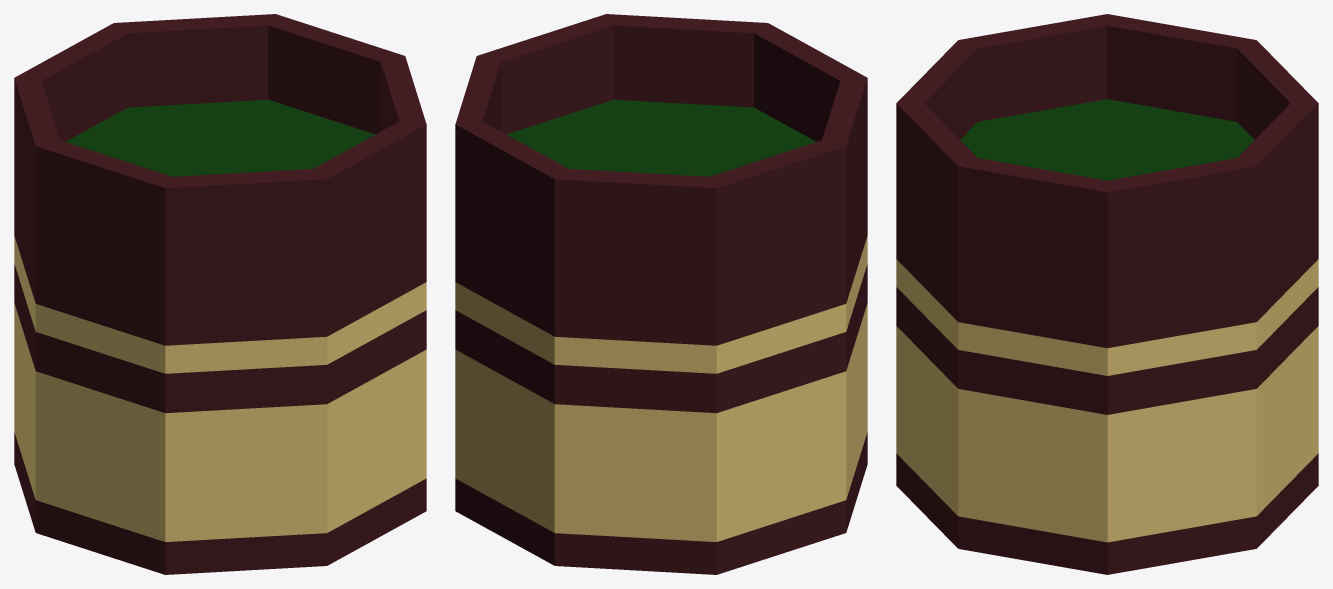
The model's file is m_coloniusLory_CupOftea.fbx.
3 views of the same model, side by side, from view 1: azimuth 30°, elevation 25°; view 2: azimuth 150°, elevation 25°; view 3: azimuth 270°, elevation 25° (orthographic).
Visible parts, largest first — view 1: m_coloniusLory_CupOftea; view 2: m_coloniusLory_CupOftea; view 3: m_coloniusLory_CupOftea.
Part boxes in pixels (bbox=[...]): m_coloniusLory_CupOftea: bbox=[14, 14, 426, 574]; m_coloniusLory_CupOftea: bbox=[455, 14, 867, 574]; m_coloniusLory_CupOftea: bbox=[896, 14, 1318, 574].
Bounding box in the file's own units: 5 × 5 × 5.
